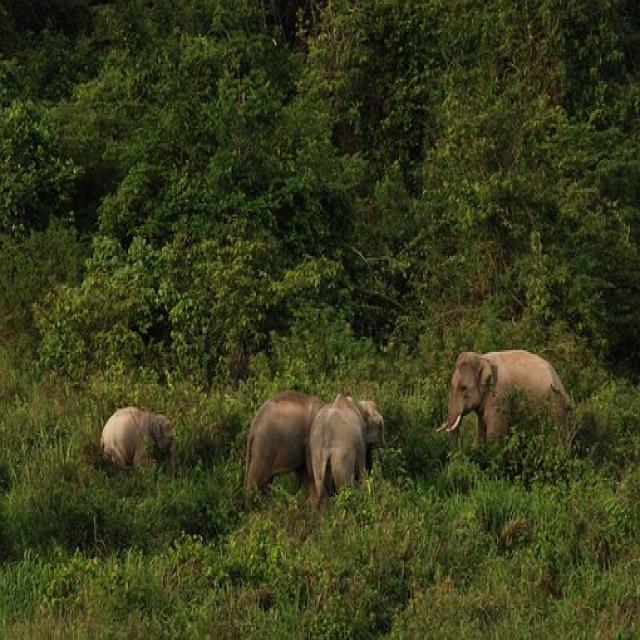Elephant: (229, 342, 389, 536), (436, 324, 582, 485), (89, 387, 194, 502)
